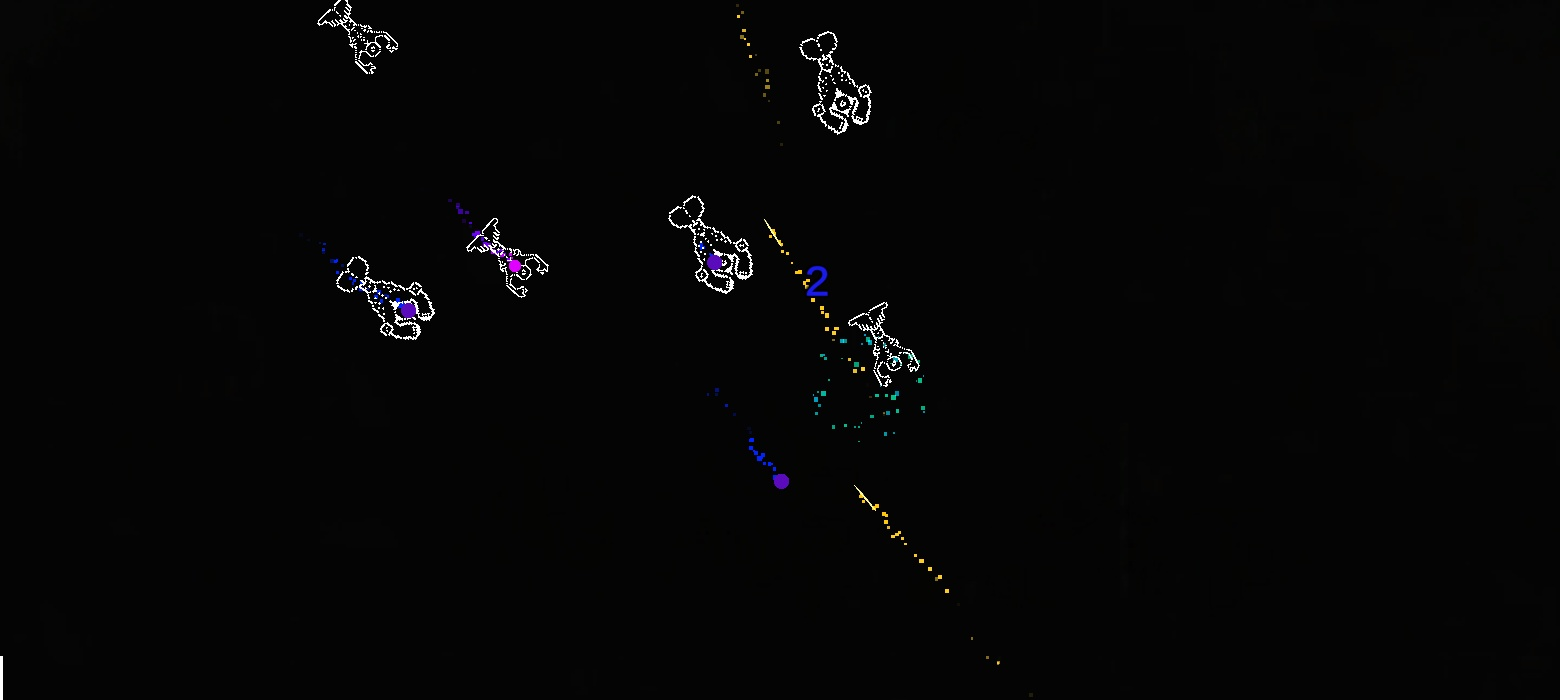enemy: (667, 195, 753, 295), (336, 256, 435, 340), (799, 31, 872, 135), (466, 218, 549, 298), (846, 300, 920, 387), (318, 1, 399, 75)
